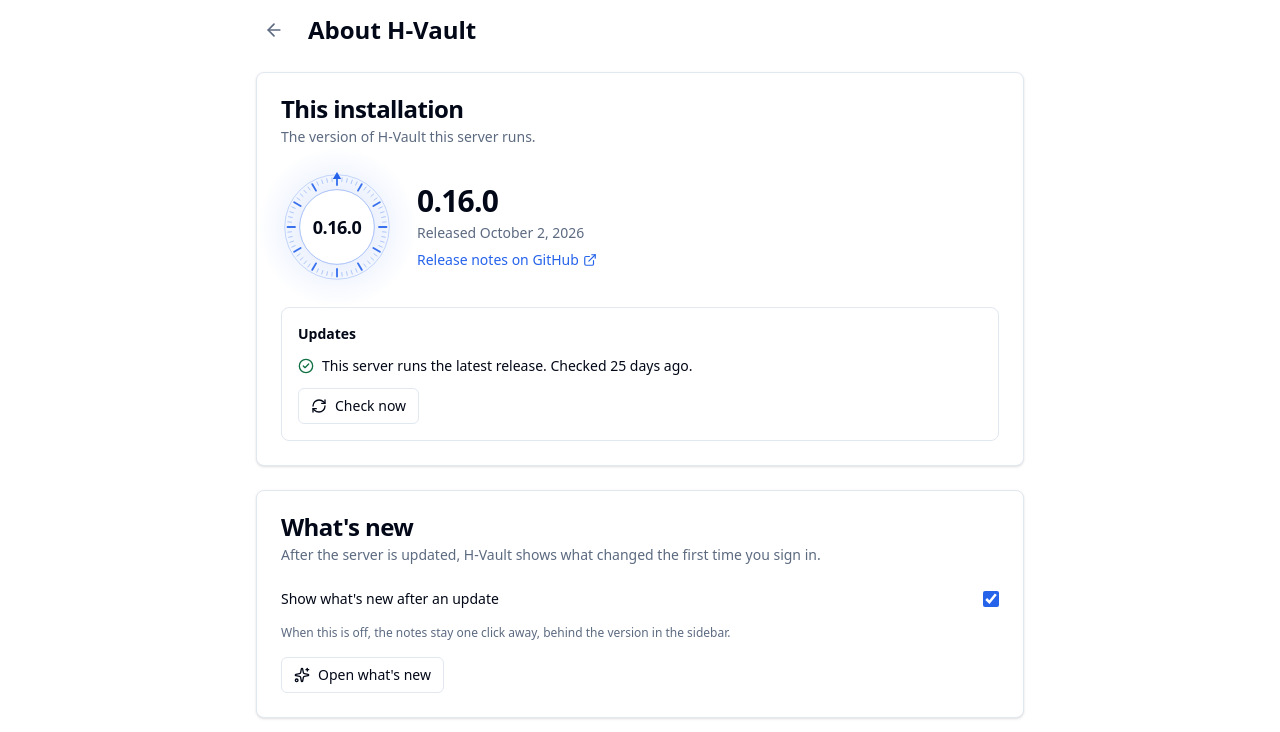
Scenario: AboutPage: the what's new preference › saves the preference, refreshes the status and confirms it
This screenshot has width=1280, height=732.
Click the checkbox labelled "Show what's new after an update" at (991, 599), box [983,591,999,607]
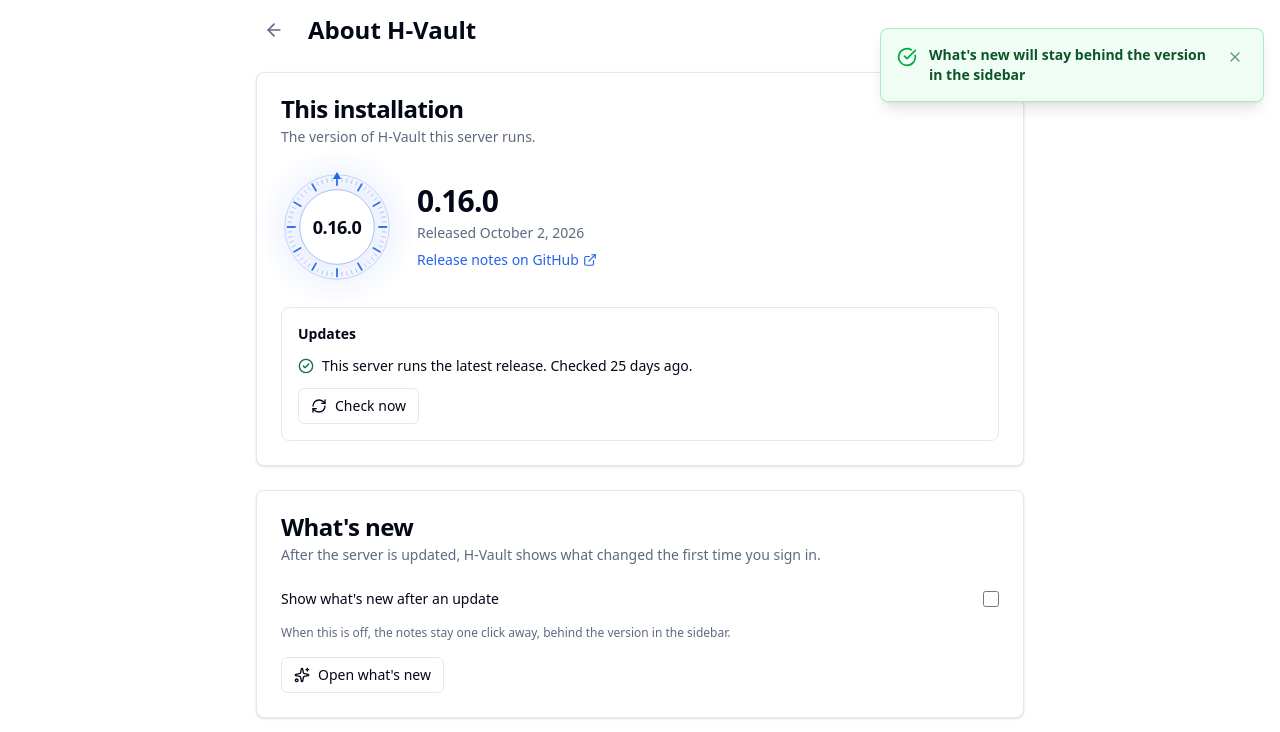
Expected: the checkbox labelled "Show what's new after an update" is not checked, [983,591,999,607]
Expected: the text "What's new will stay behind the version in the sidebar" is shown, [929,45,1211,85]
